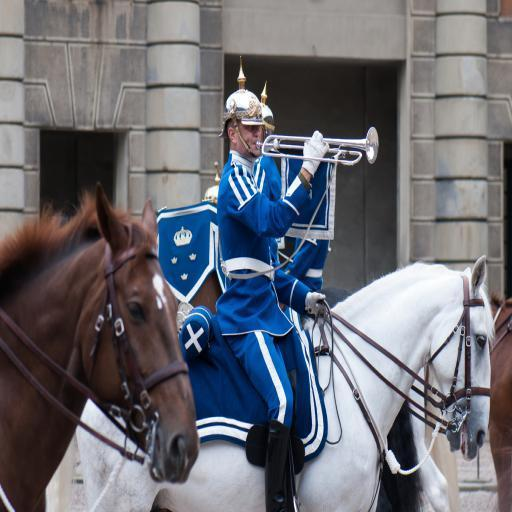horse: (76, 253, 496, 511), (0, 178, 200, 512)
